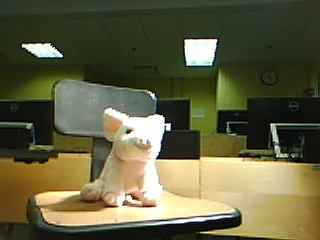piggy: (80, 107, 170, 210)
